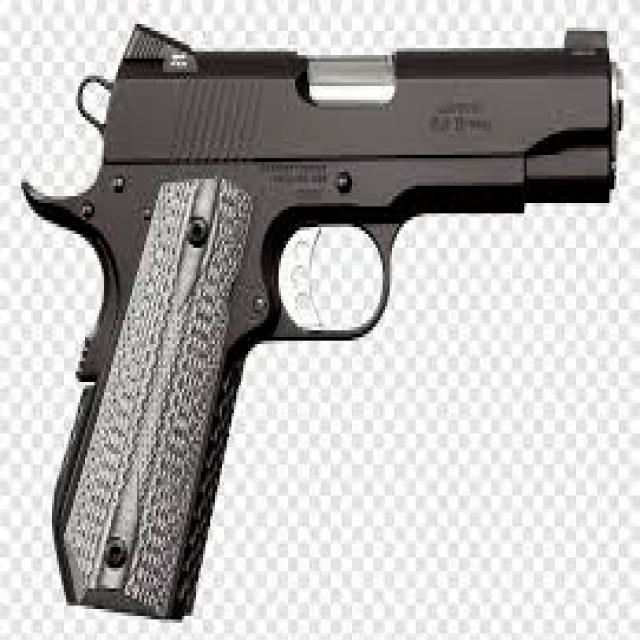semi automatic: (17, 20, 631, 621)
